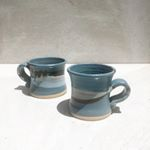cups: (63, 62, 133, 123), (14, 55, 69, 101)
